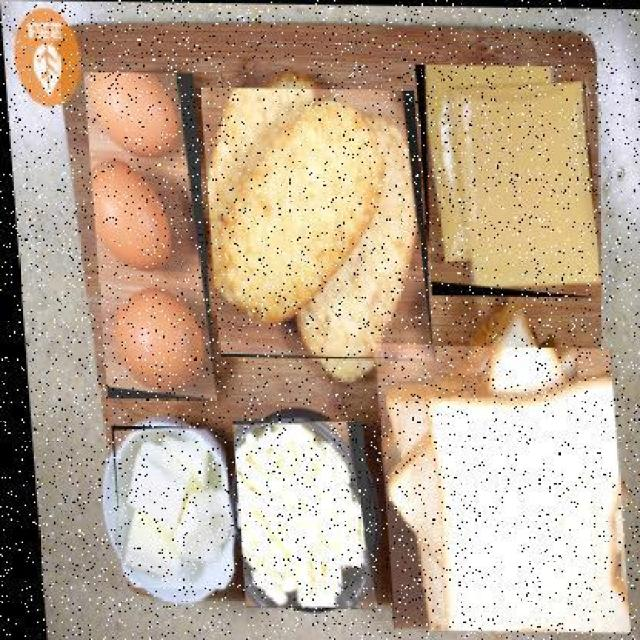Egg: (106, 289, 205, 398), (92, 157, 171, 271), (88, 75, 177, 155)
